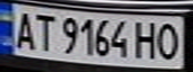1: (75, 16, 96, 56)
4: (109, 17, 133, 59)
6: (93, 17, 115, 57)
9: (57, 14, 81, 54)
A: (9, 8, 39, 51)
H: (133, 18, 160, 60)
O: (154, 20, 184, 61)
T: (30, 11, 57, 52)
